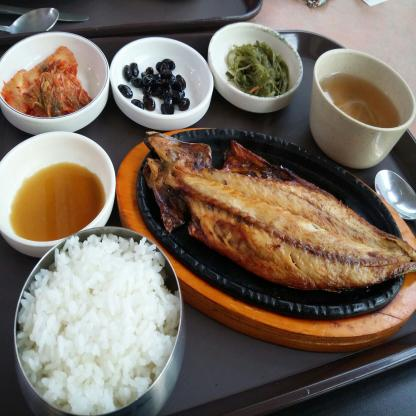Peixe: (154, 136, 409, 313)
